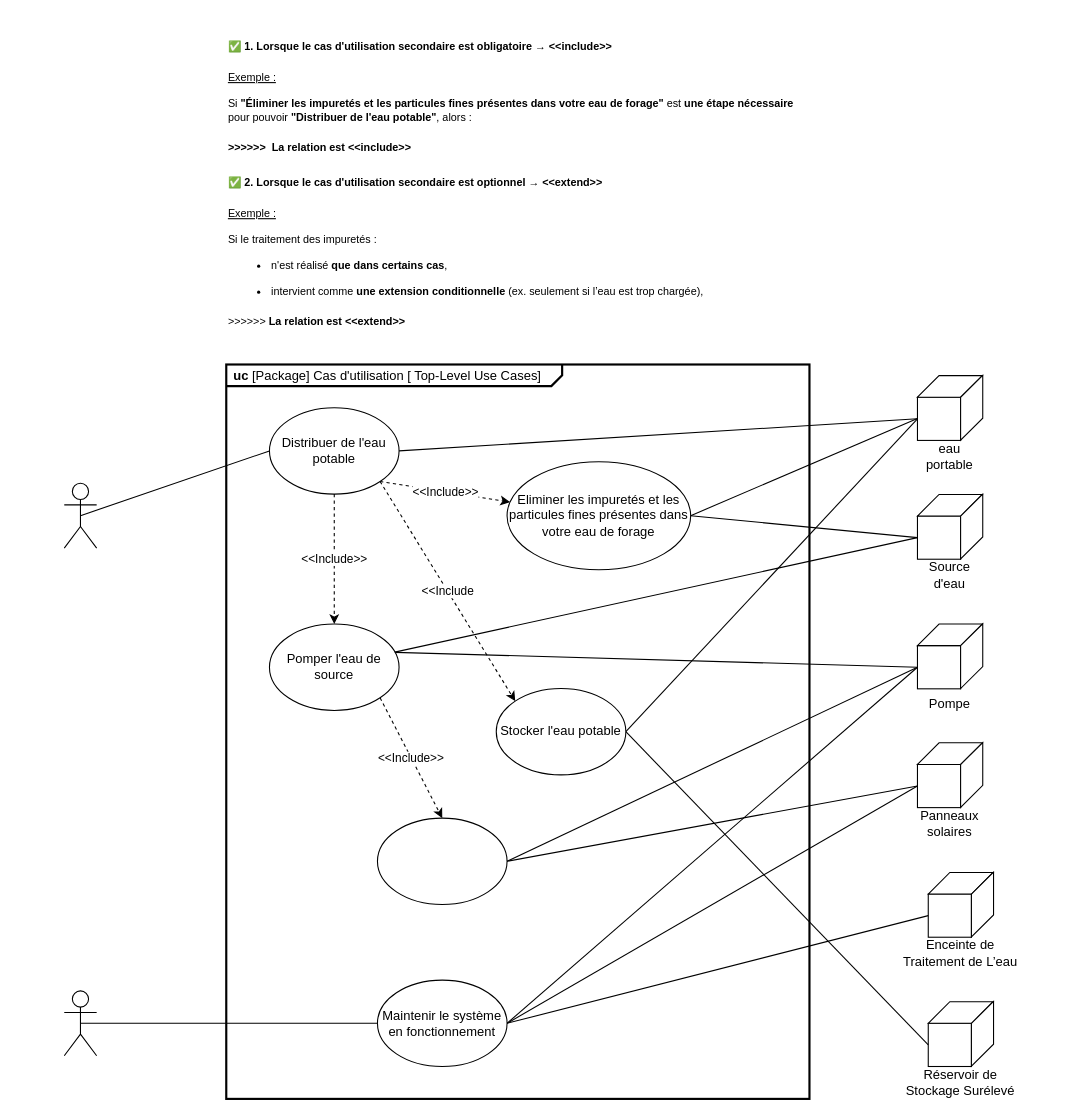
This 1077x1118 diagram has some shape labels left out. Each missing label, with the centre of its shape:
Agent de maintenace: (80,1023)
Alimenter la pompe en énergie électrique: (441,861)
Consommateur d'eau: (80,515)
